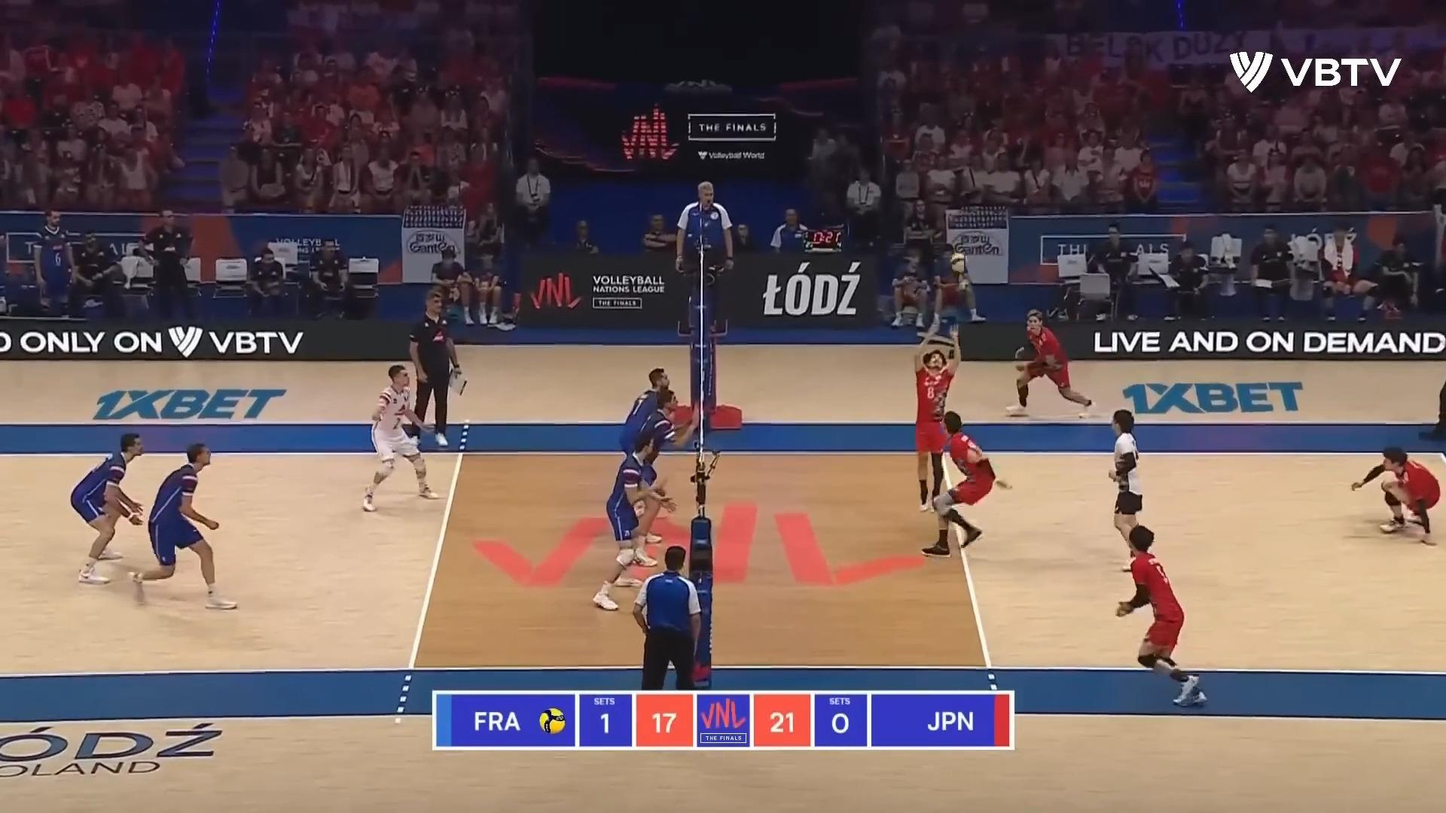ball: (949, 253, 968, 271)
